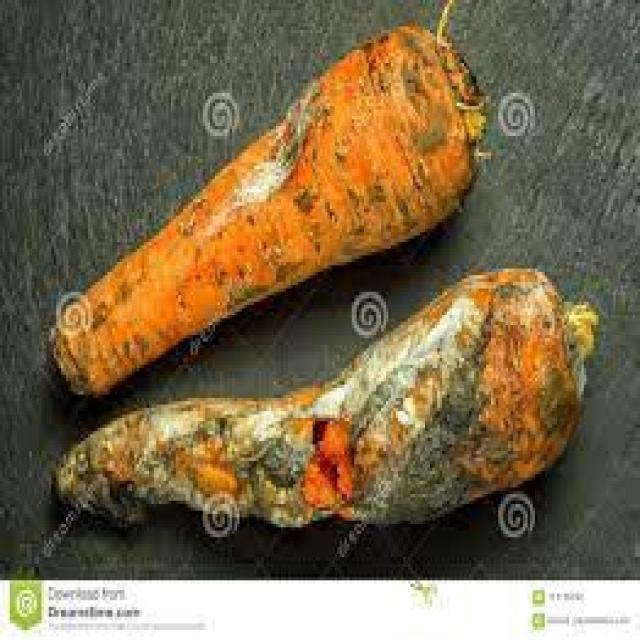Stale_Carrot: (50, 24, 484, 400), (54, 263, 586, 529)
